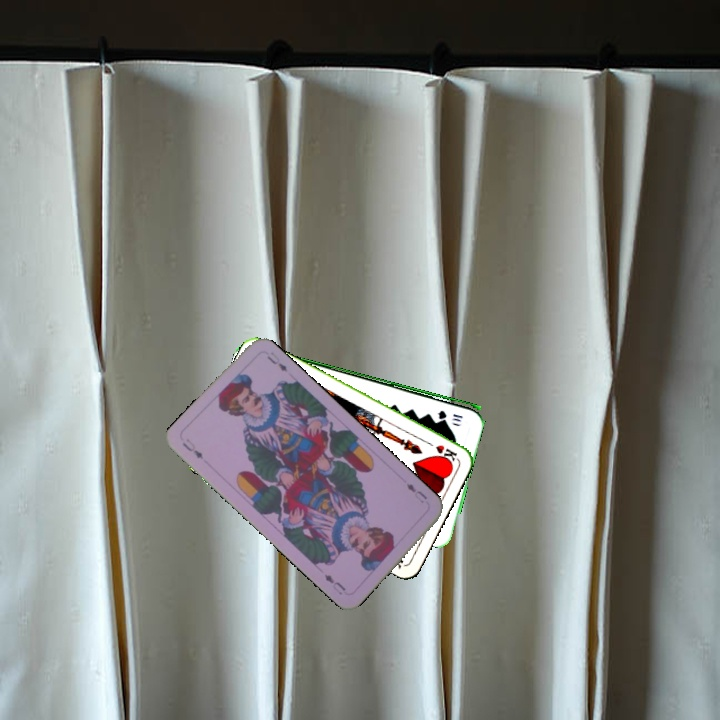EU: (178, 434, 206, 462), (402, 479, 430, 505)
G10: (434, 406, 465, 421)
HK: (421, 437, 460, 464)
